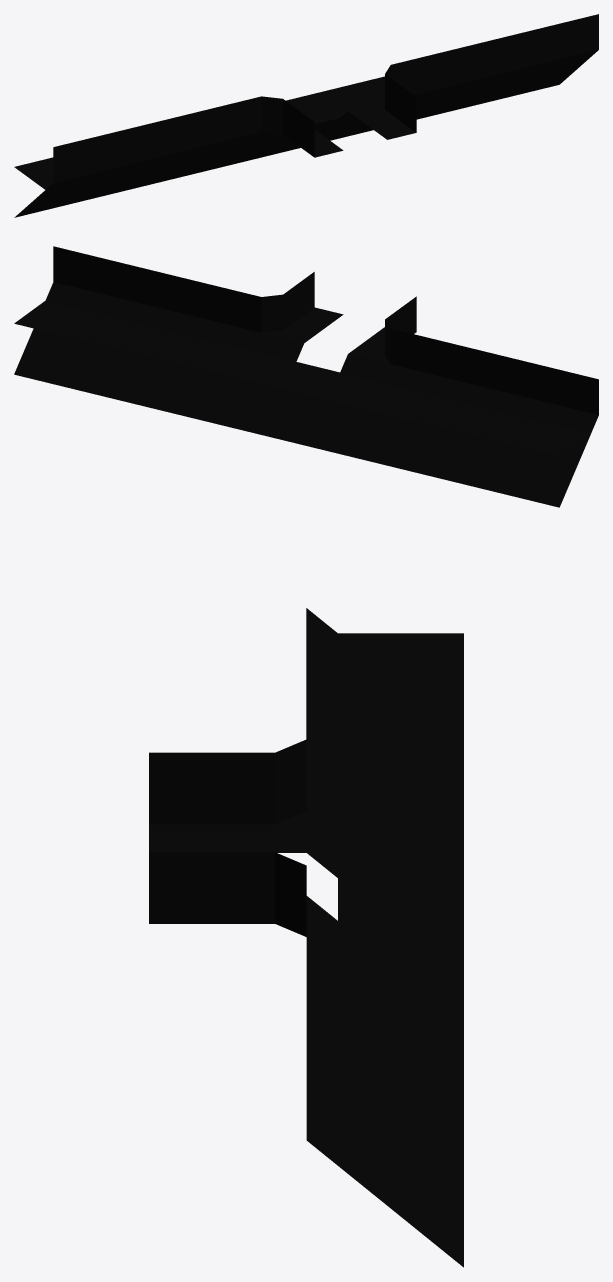
Rendered from Ciudad_Puente_Relleno.FBX.
The picture shows the model from 3 angles, top to bottom: view 1: azimuth 30°, elevation 25°; view 2: azimuth 150°, elevation 25°; view 3: azimuth 270°, elevation 25°; orthographic projection. The views are drawn at different scales.
Visible parts, largest first — view 1: Ciudad_Puente_Relleno; view 2: Ciudad_Puente_Relleno; view 3: Ciudad_Puente_Relleno.
Boxes of the visible parts, x1,y1,x2,y2 form: Ciudad_Puente_Relleno: [14, 14, 598, 217]; Ciudad_Puente_Relleno: [14, 246, 598, 507]; Ciudad_Puente_Relleno: [149, 608, 463, 1267].
Size of the model in its own units: 20000 by 5000 by 3487.
